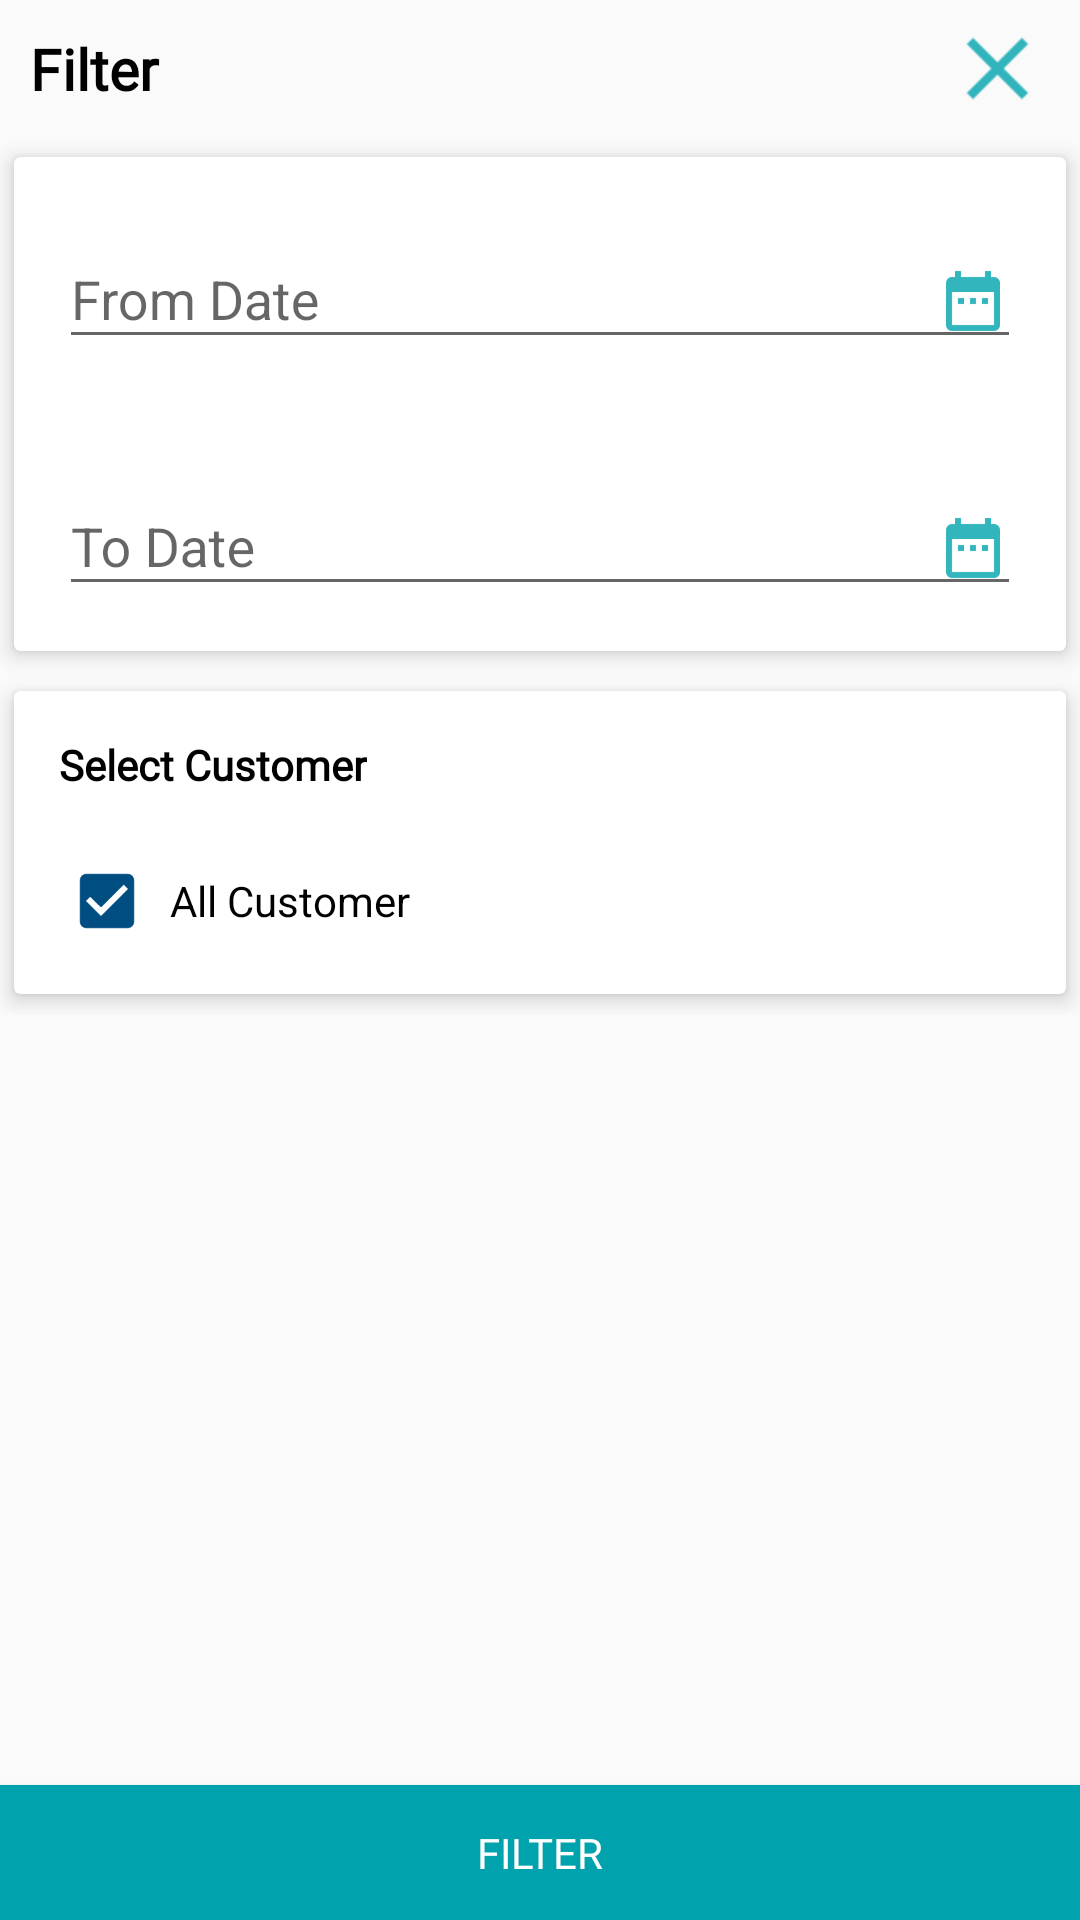

Named icons in this screenshot (1080×1920) and their centers, point (x, y):
close: point (997, 68)
